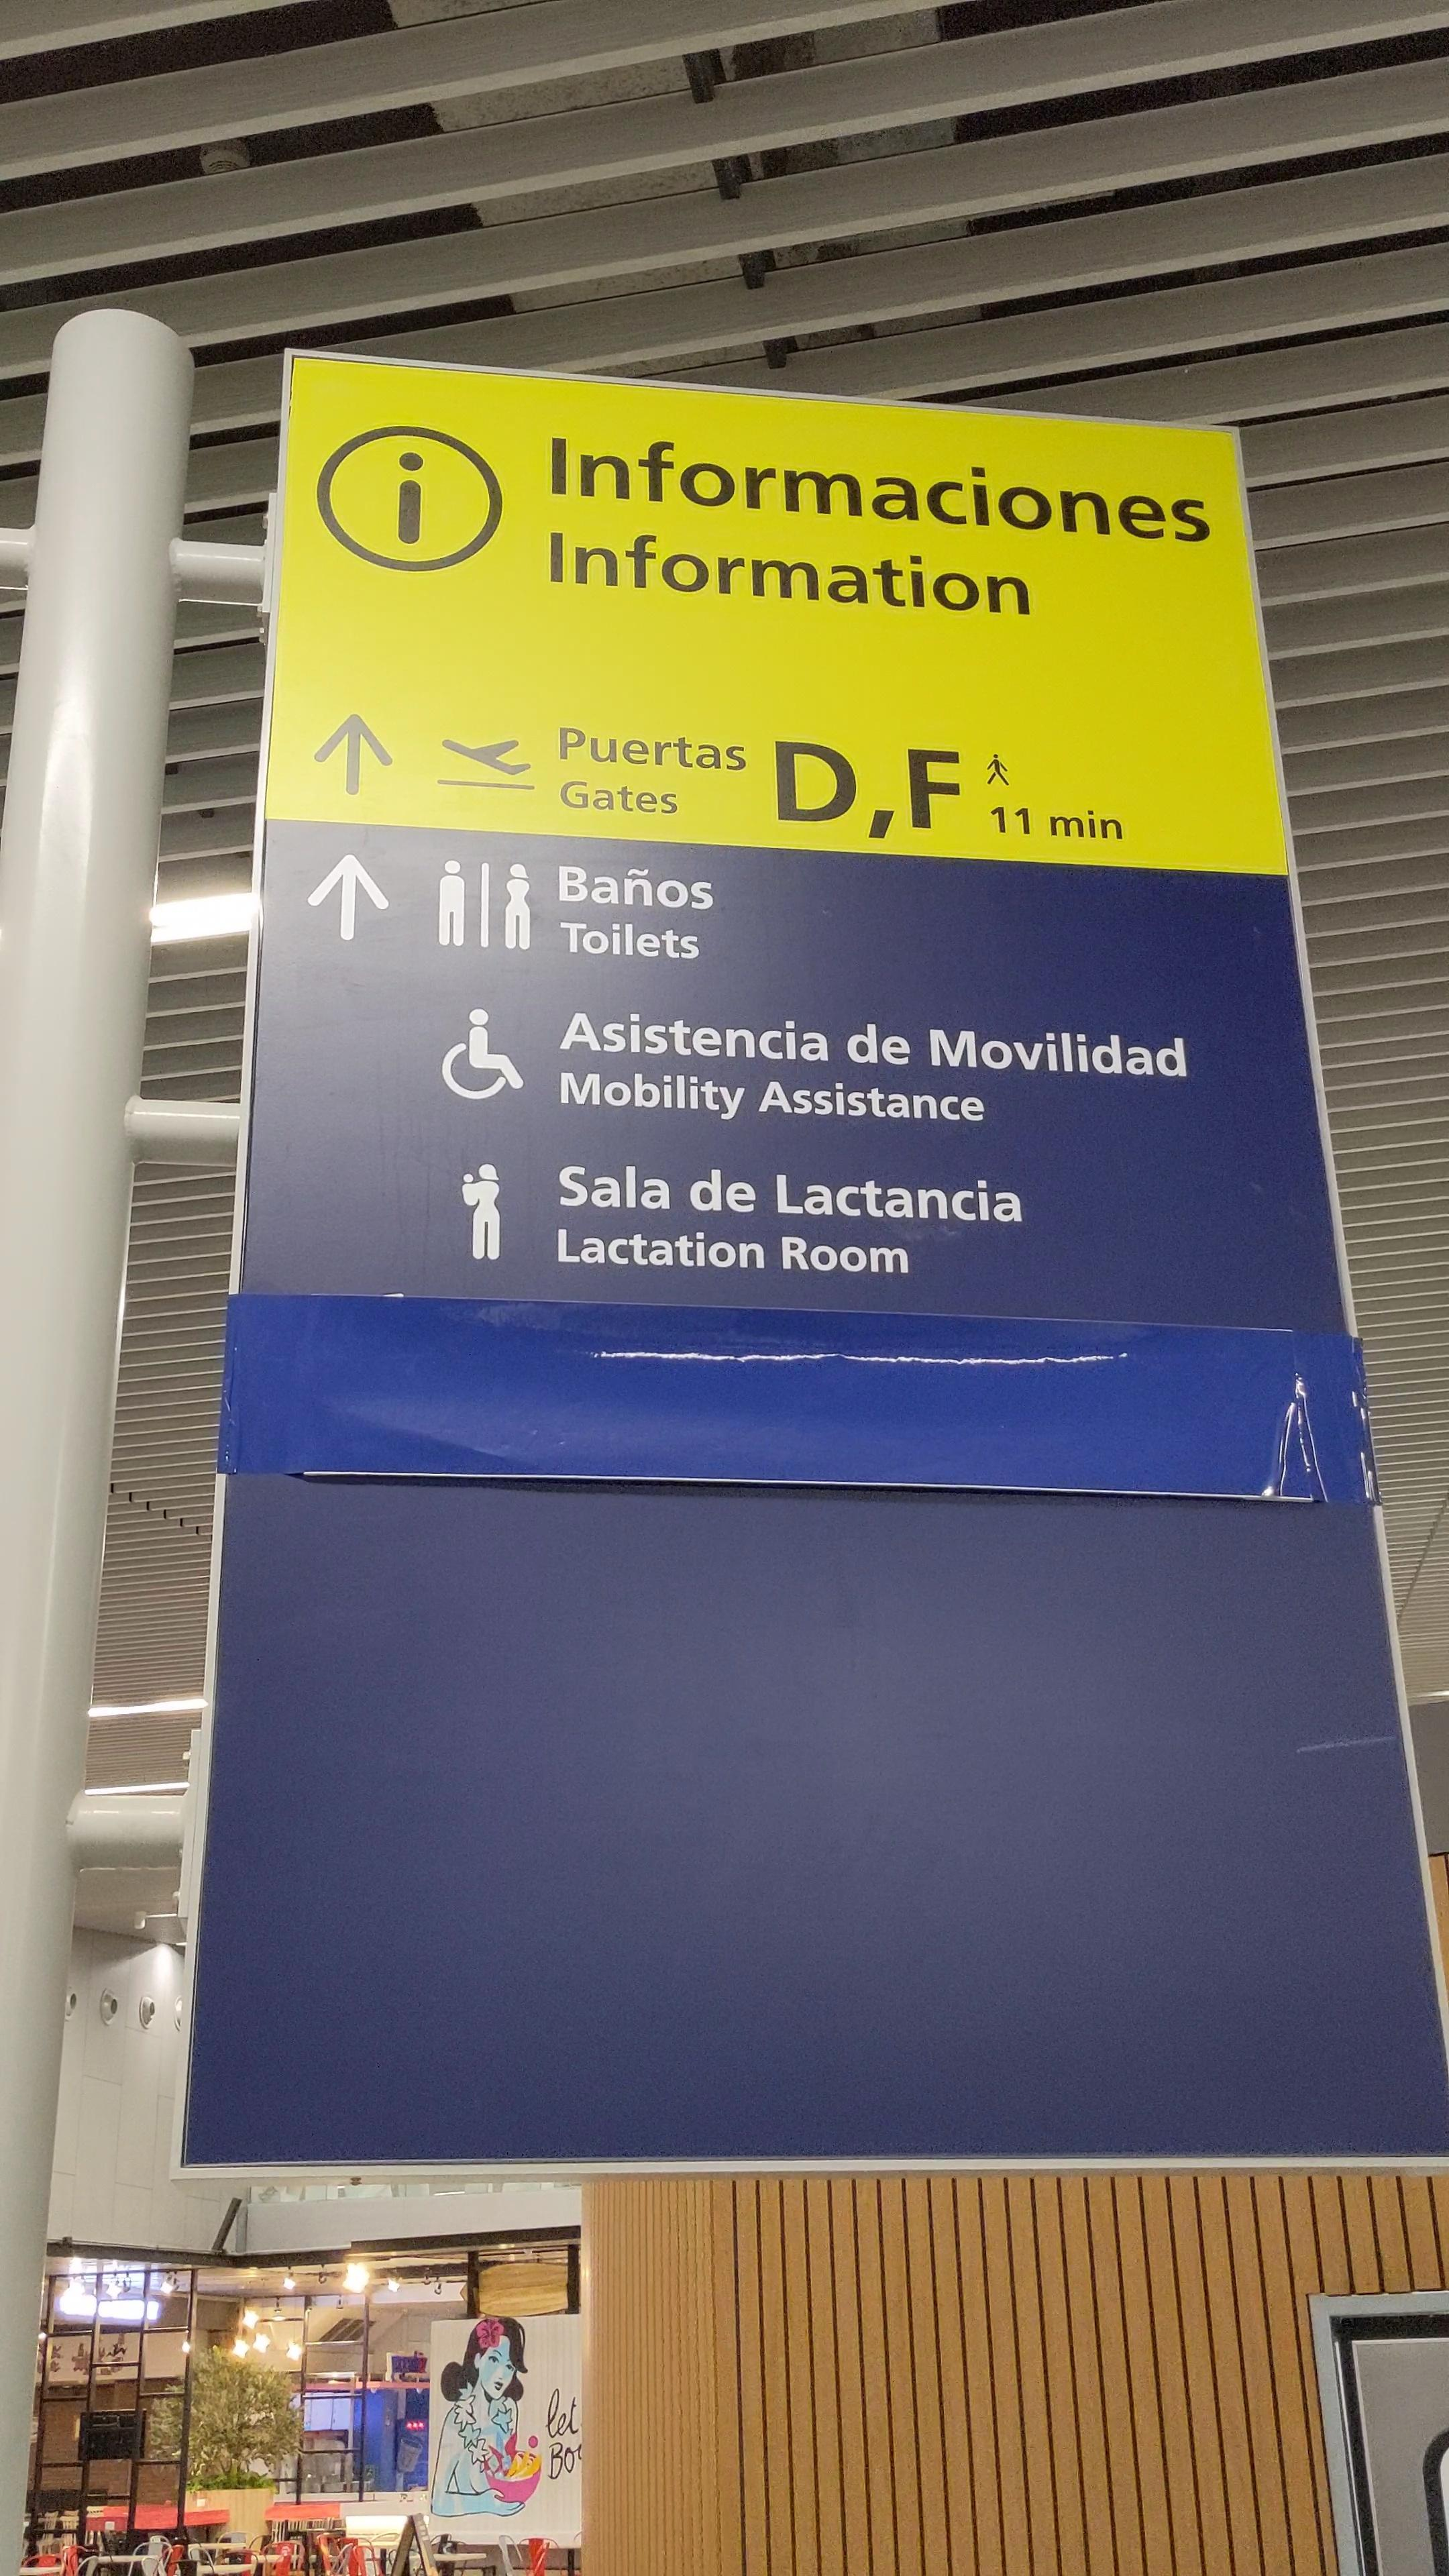airplane symbol: (437, 734, 533, 780)
bathrooms: (430, 853, 538, 957)
handicapped symbol: (435, 1003, 525, 1108)
thin up arrow: (303, 851, 395, 945), (310, 708, 395, 798)
